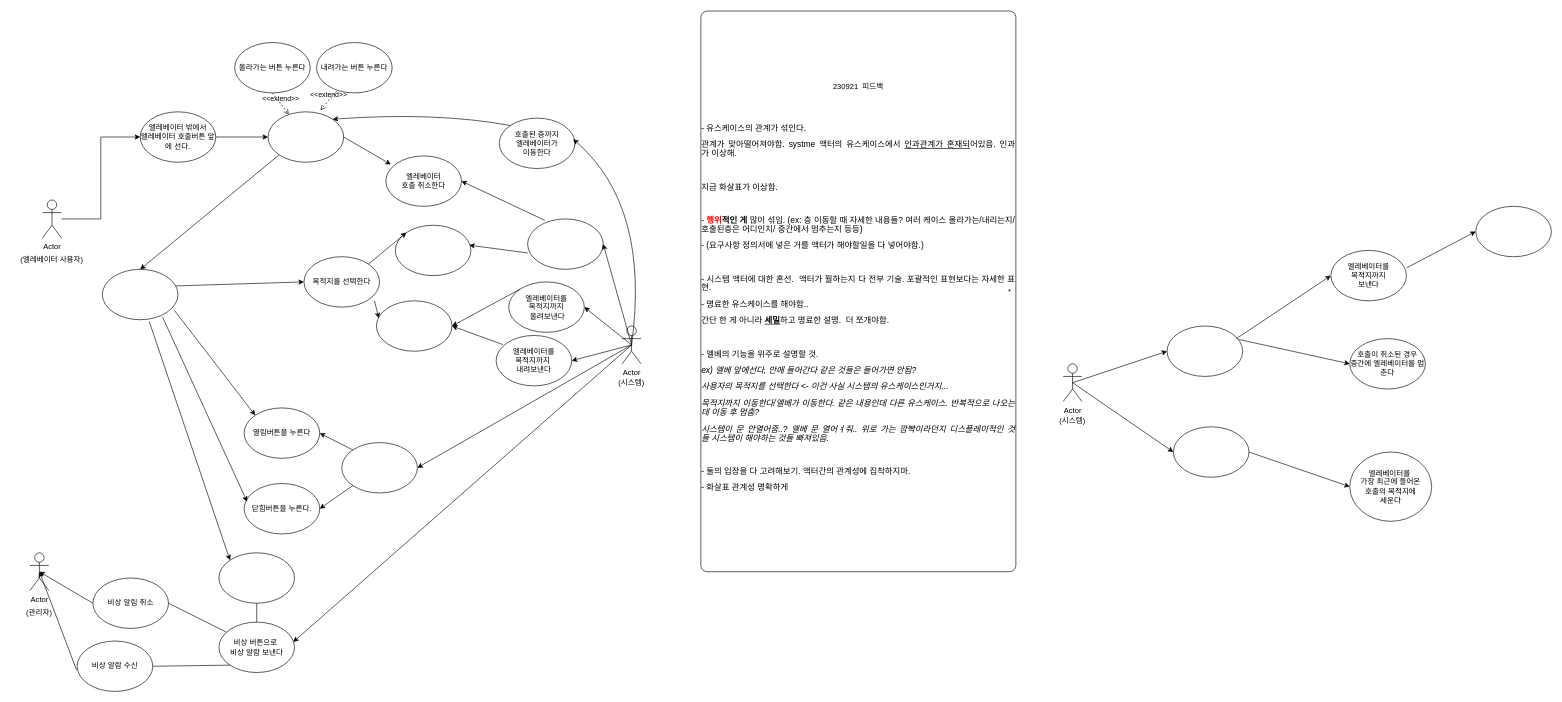
The diagram is 1562 pixels wide and 702 high, and some of its shapes have lost their labels. Here are the shapes that lost their labels. From the top down, the box of each, then its label:
(267, 111, 344, 162): 엘레베이터를 호출한다.
(395, 225, 471, 276): 목적지를 취소한다
(527, 218, 603, 269): 엘레베이터의 이동을 취소한다
(102, 269, 178, 320): 호출된 엘레베이터 안에 들어간다
(376, 300, 452, 351): 목적지로 이동한다
(1166, 325, 1243, 376): 엘레베이터 호출 신호를 수신한다
(341, 442, 417, 493): 버튼에 따라 엘레베이터 문이 열려 있는 시간을 조정한다.
(1173, 426, 1249, 477): 엘레베이터 호출 신호를 수신하지 않는다
(218, 552, 295, 603): 비상 버튼을 누른다
